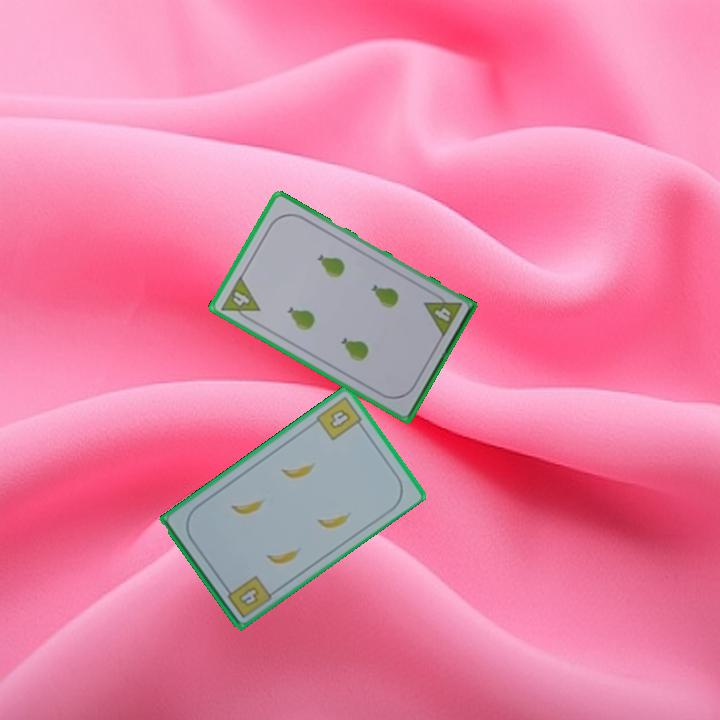4b: (313, 393, 367, 443), (220, 572, 273, 621)
4p: (217, 272, 263, 326), (420, 288, 464, 340)
